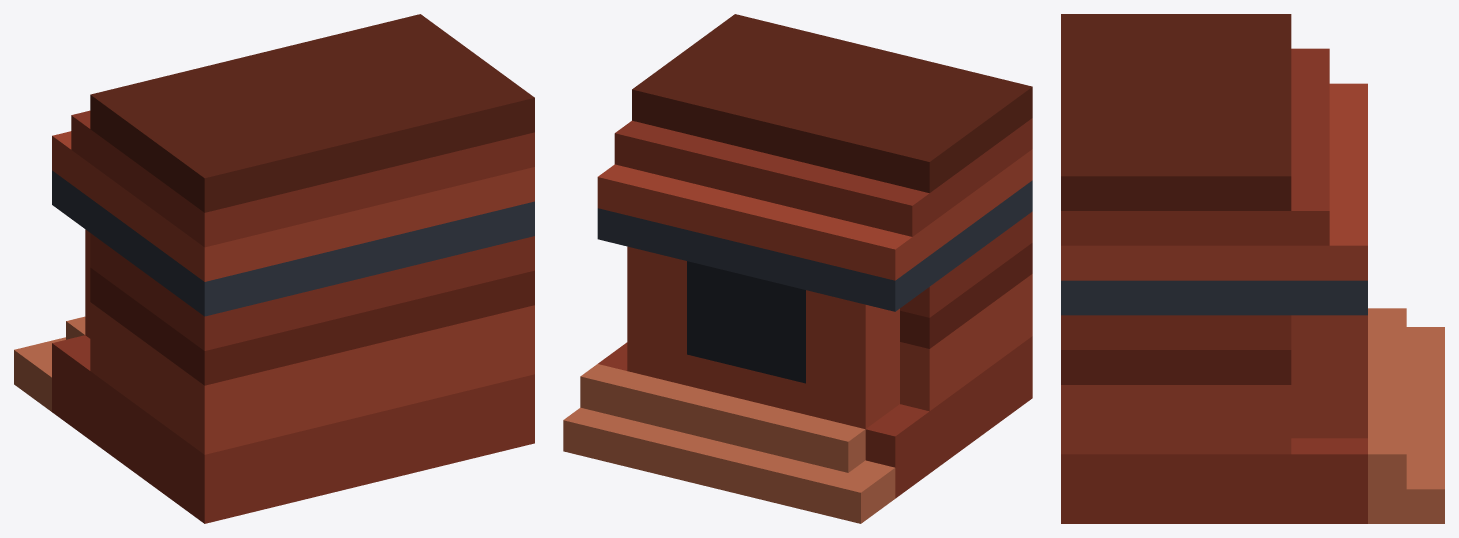
File: rim_overhang_shelf.glb
3 views of the same model, side by side, from view 1: azimuth 30°, elevation 25°; view 2: azimuth 150°, elevation 25°; view 3: azimuth 270°, elevation 25° (orthographic). The views are drawn at different scales.
Parts seen in each view (by area): view 1: rock; view 2: rock; view 3: rock.
Part boxes in pixels (x1,y1,x2,y2): rock: (14, 14, 534, 523); rock: (563, 14, 1032, 523); rock: (1061, 14, 1444, 523).
Size of the model in its own units: 10 by 10 by 10.
